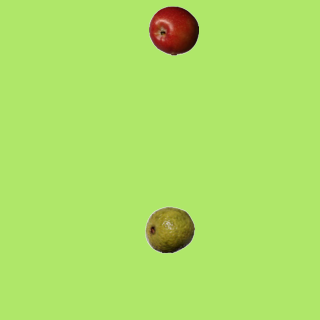Apple Braeburn: (148, 5, 198, 55)
Guava: (144, 204, 194, 254)
